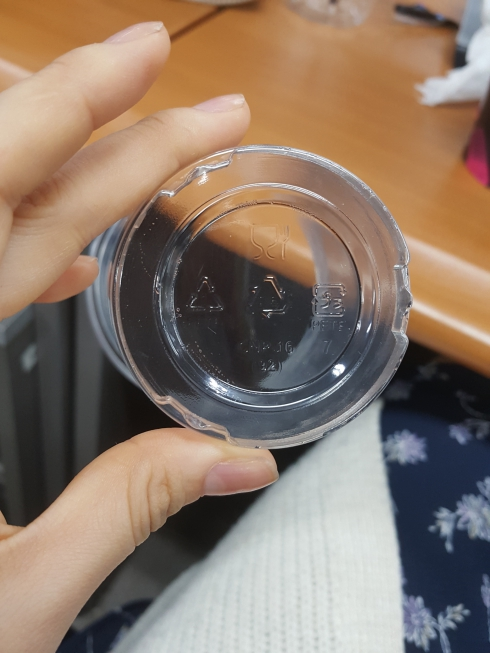recycle: (185, 271, 230, 334)
